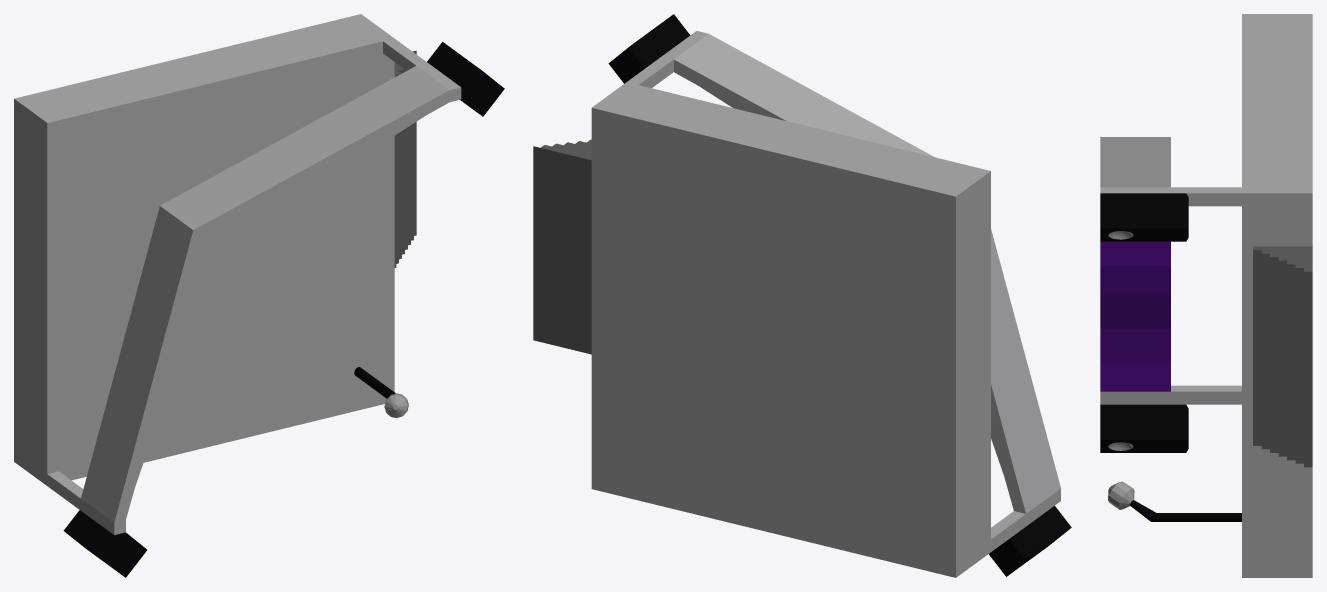
3 renders of one model, left to right at view 1: azimuth 30°, elevation 25°; view 2: azimuth 150°, elevation 25°; view 3: azimuth 270°, elevation 25°, orthographic. The views are drawn at different scales.
Parts seen in each view (by area): view 1: shadeGray, shadeBlack; view 2: shadeGray, shadeBlack; view 3: shadeGray, shadeBlue, shadeBlack.
Part boxes in pixels (x1,y1,x2,y2): shadeGray: (14, 14, 461, 534); shadeBlack: (63, 42, 504, 577); shadeGray: (533, 31, 1060, 577); shadeBlack: (608, 14, 1071, 576); shadeGray: (1100, 14, 1312, 577); shadeBlue: (1100, 241, 1170, 391); shadeBlack: (1100, 193, 1241, 521).
Size of the model in its own units: 7.14 by 6.93 by 3.
